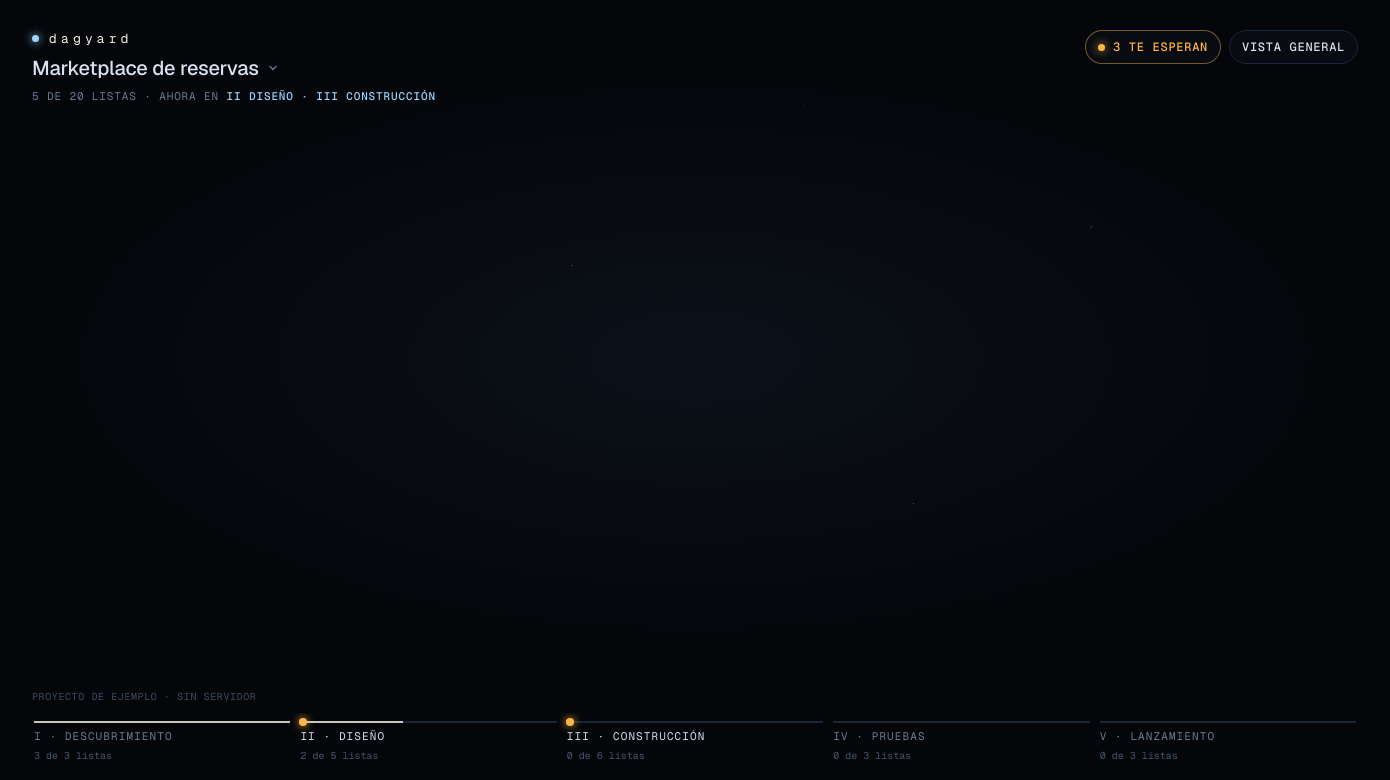
Scenario: proyecto al entrar › un navegador limpio entra a la demo; si eligió otro y recarga, sigue en ese
The width and height of the screenshot is (1390, 780).
Click the button "Marketplace de reservas" at [155, 68], box [32, 53, 279, 83]
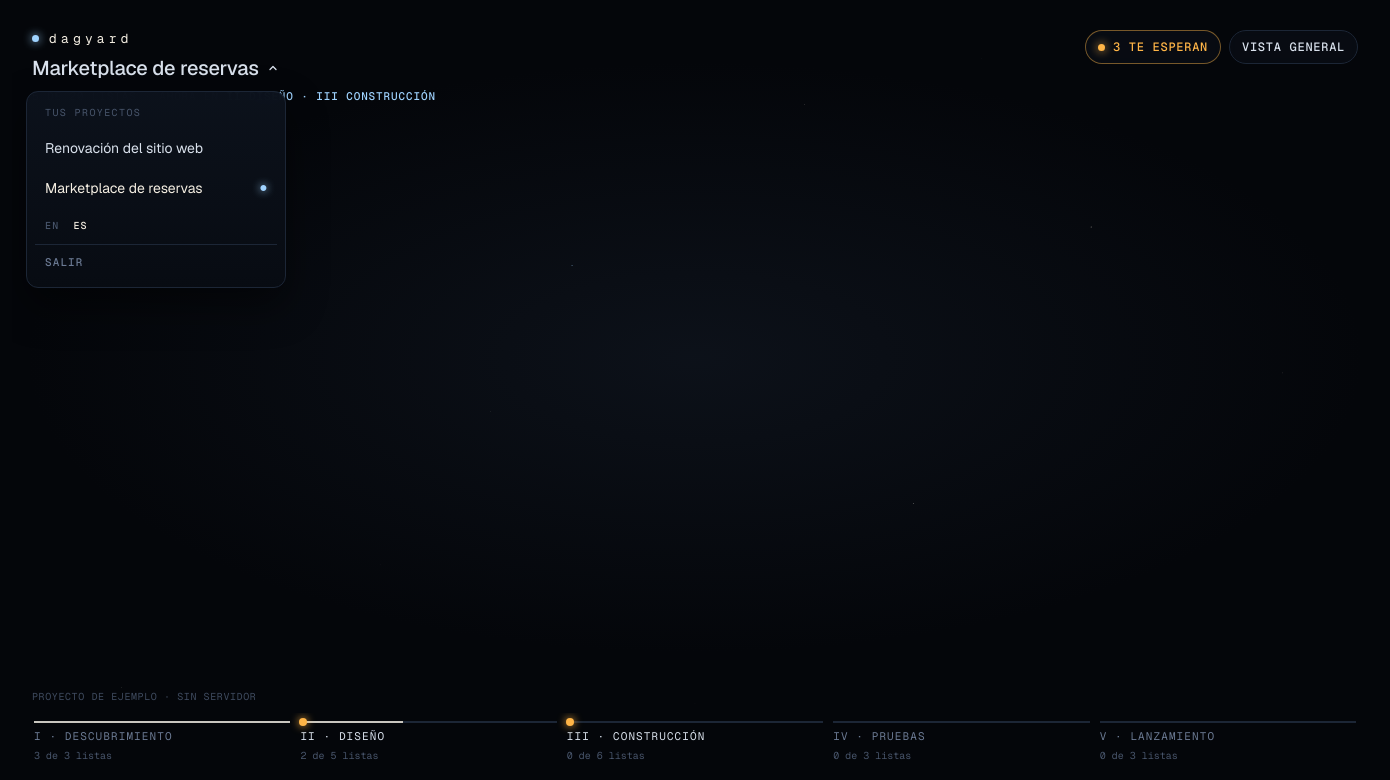
Click the option "Renovación del sitio web" at [156, 148], box [35, 129, 277, 167]
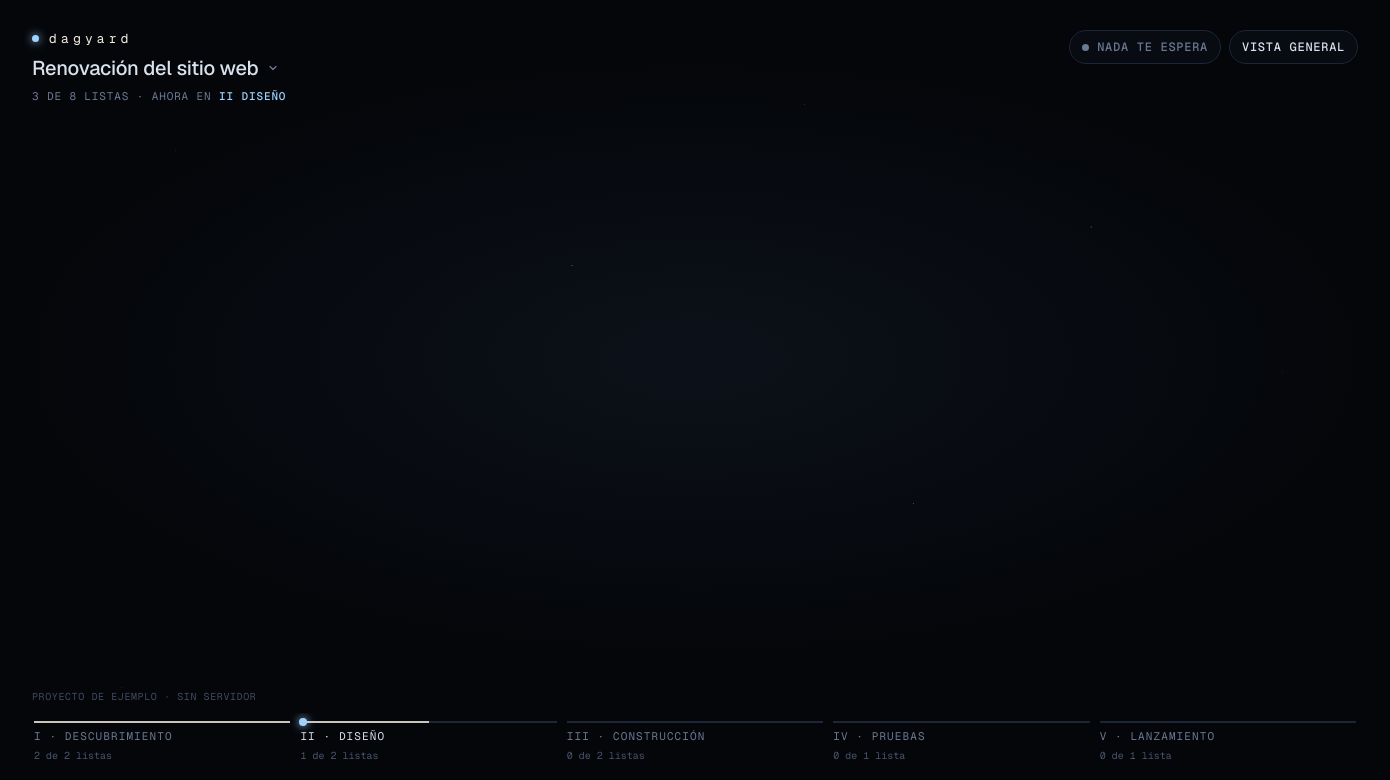
Now the button "Renovación del sitio web" is shown, box [32, 53, 278, 83]
